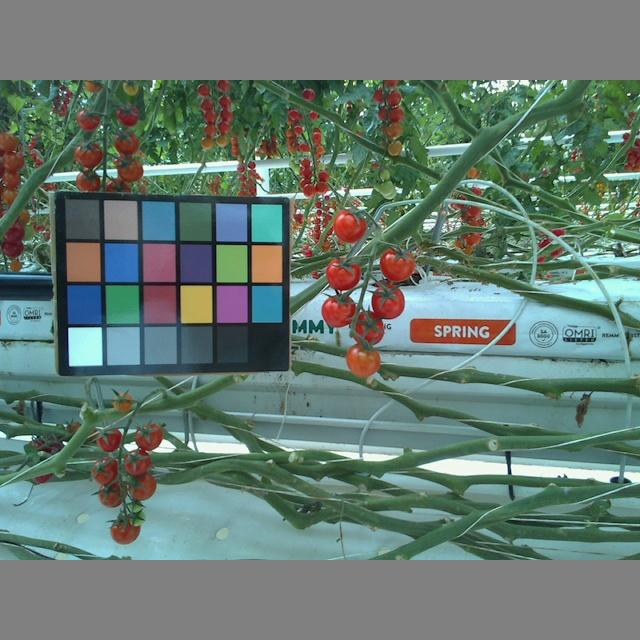pink: (347, 344, 382, 378), (111, 390, 136, 414), (1, 153, 24, 174), (1, 132, 20, 154), (2, 174, 22, 192)
red: (378, 249, 417, 283), (321, 294, 356, 330), (334, 206, 368, 243), (325, 258, 361, 291), (372, 285, 406, 319), (352, 312, 384, 346), (111, 514, 142, 544), (133, 421, 163, 450), (127, 474, 158, 502), (97, 478, 125, 509), (90, 457, 119, 485), (123, 449, 152, 476), (114, 154, 141, 182), (75, 140, 103, 166), (97, 427, 123, 451), (113, 133, 139, 157), (74, 107, 101, 130), (73, 169, 98, 193), (115, 105, 139, 128)
